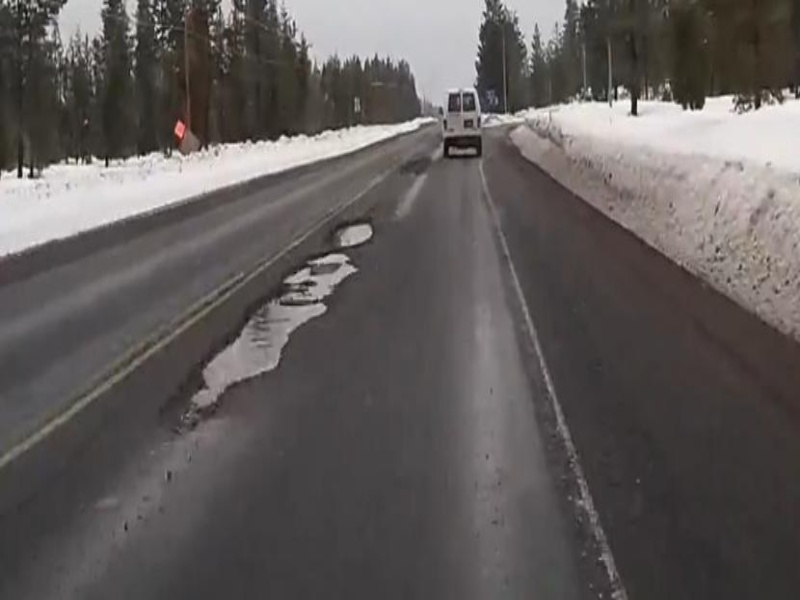pothole: (164, 295, 332, 434), (273, 250, 364, 292), (328, 215, 378, 249)
